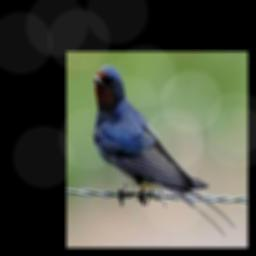Swallow: (92, 65, 235, 236)
